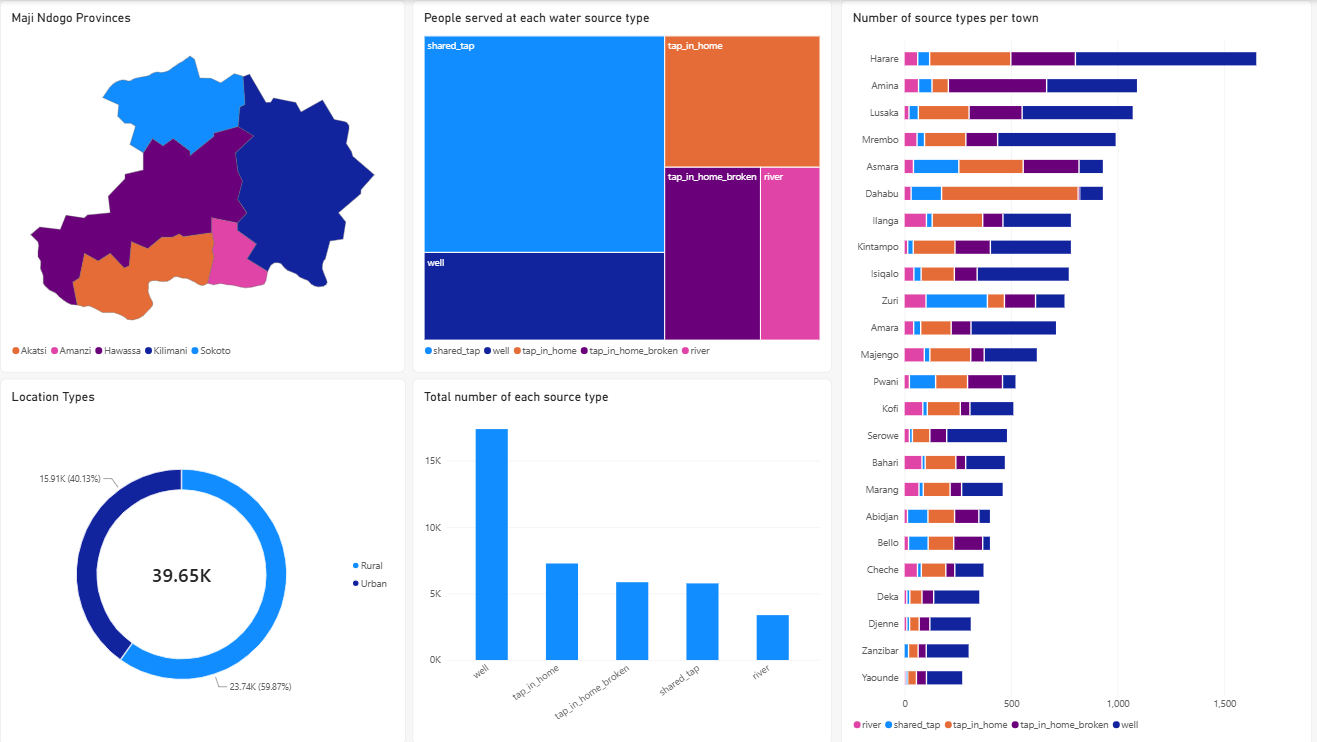

This screenshot's page, from the dashboard's own definition file:
{"tool":"powerbi","page":{"name":"National","canvas":[1920,1080],"ordinal":0},"visuals":[{"type":"shapeMap","title":"Maji Ndogo Provinces","fields":{"Category":["location.province_name"],"Series":["location.province_name"]},"box":[0,0,586.6,539.3],"z":0},{"type":"donutChart","title":"Location Types","fields":{"Category":["location.location_type"],"Y":["CountNonNull(location.location_id)"]},"box":[0,549,587,531],"z":1000},{"type":"treemap","title":"People served at each water source type","fields":{"Group":["water_source.type_of_water_source"],"Values":["Sum(water_source.number_of_people_served)"]},"box":[596.9,0,607.2,539.3],"z":2000},{"type":"barChart","title":"Number of source types per town","fields":{"Category":["location.town_name"],"Series":["water_source.type_of_water_source"],"Y":["CountNonNull(water_source.type_of_water_source)"]},"box":[1218.5,0,681.3,1080.6],"z":3000},{"type":"clusteredColumnChart","title":"Total number of each source type","fields":{"Category":["water_source.type_of_water_source"],"Y":["CountNonNull(water_source.type_of_water_source)"]},"box":[597,549,607,531],"z":4000}]}

Visuals, with their boxes in screenshot pixels (x1, y1, x2, y2), scaled from the page's 1920x1080 canvas onto the 1317x742 screenshot:
"Maji Ndogo Provinces" shapeMap: 0 0 402 371
"Location Types" donutChart: 0 377 403 741
"People served at each water source type" treemap: 409 0 826 371
"Number of source types per town" barChart: 836 0 1303 741
"Total number of each source type" clusteredColumnChart: 410 377 826 741
